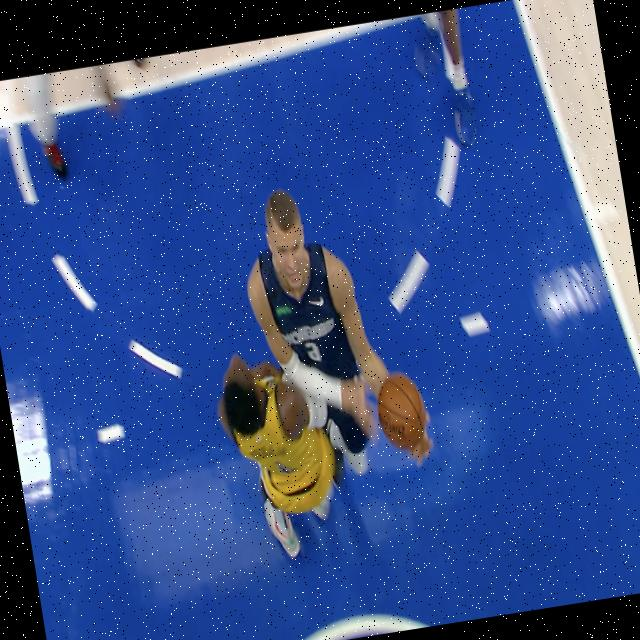foul: (156, 125, 523, 614)
